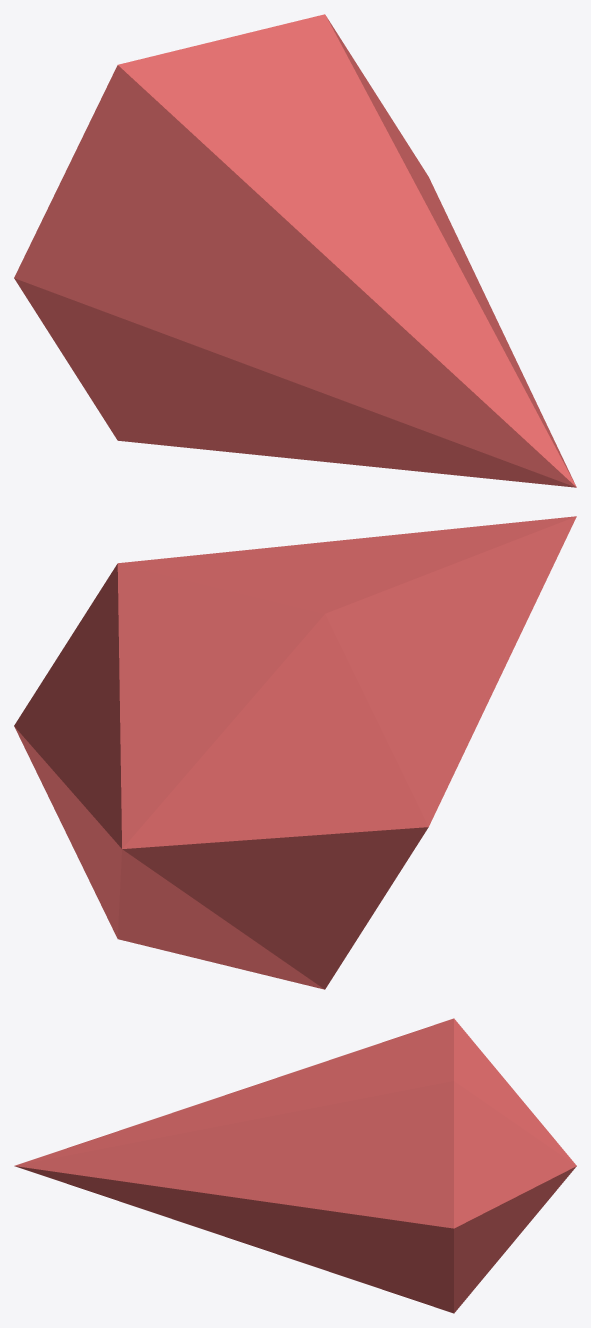
File: pointer.fbx
The picture shows the model from 3 angles, top to bottom: view 1: azimuth 30°, elevation 25°; view 2: azimuth 150°, elevation 25°; view 3: azimuth 270°, elevation 25°; orthographic projection. The views are drawn at different scales.
Parts seen in each view (by area): view 1: Cone; view 2: Cone; view 3: Cone.
Boxes of the visible parts, box(x1,y1,x2,y2) form: Cone: box(14, 14, 576, 487); Cone: box(14, 516, 576, 989); Cone: box(14, 1018, 576, 1313).
Size of the model in its own units: 20.55 by 17.8 by 39.04.
